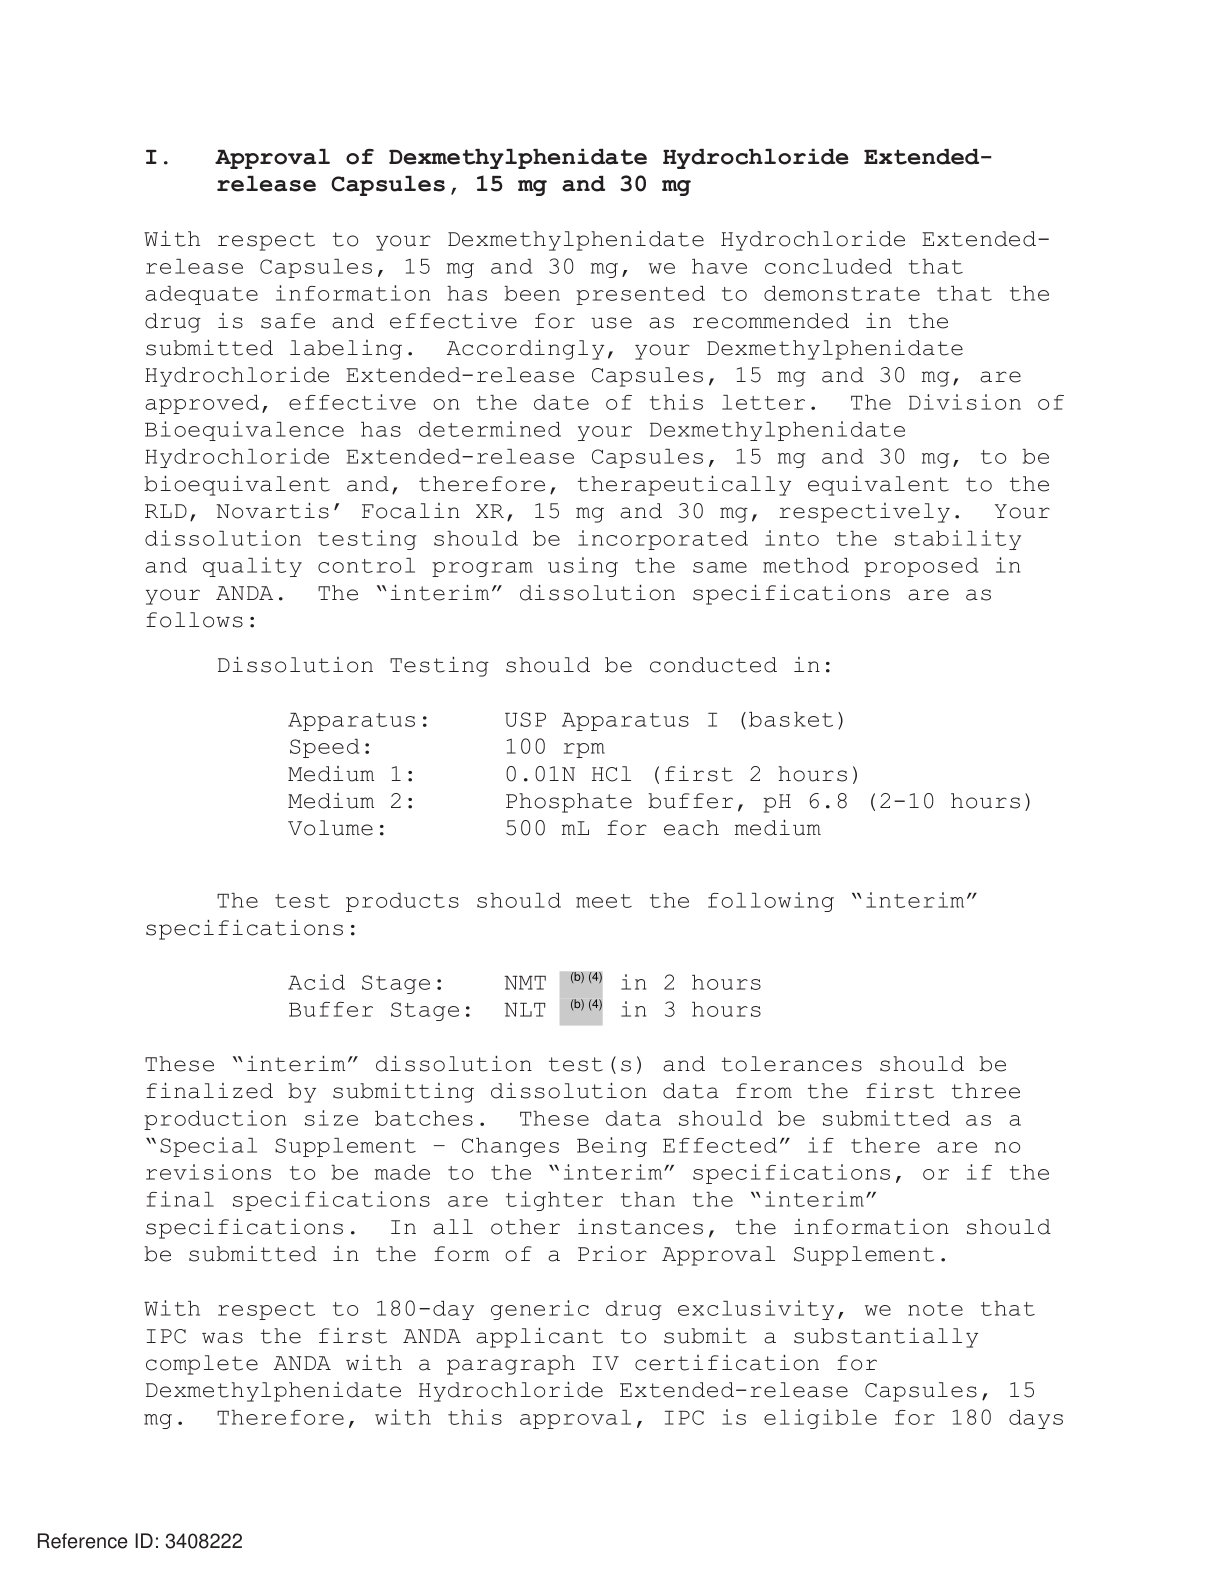nolines: (283, 708, 1032, 841), (288, 973, 764, 1026)
